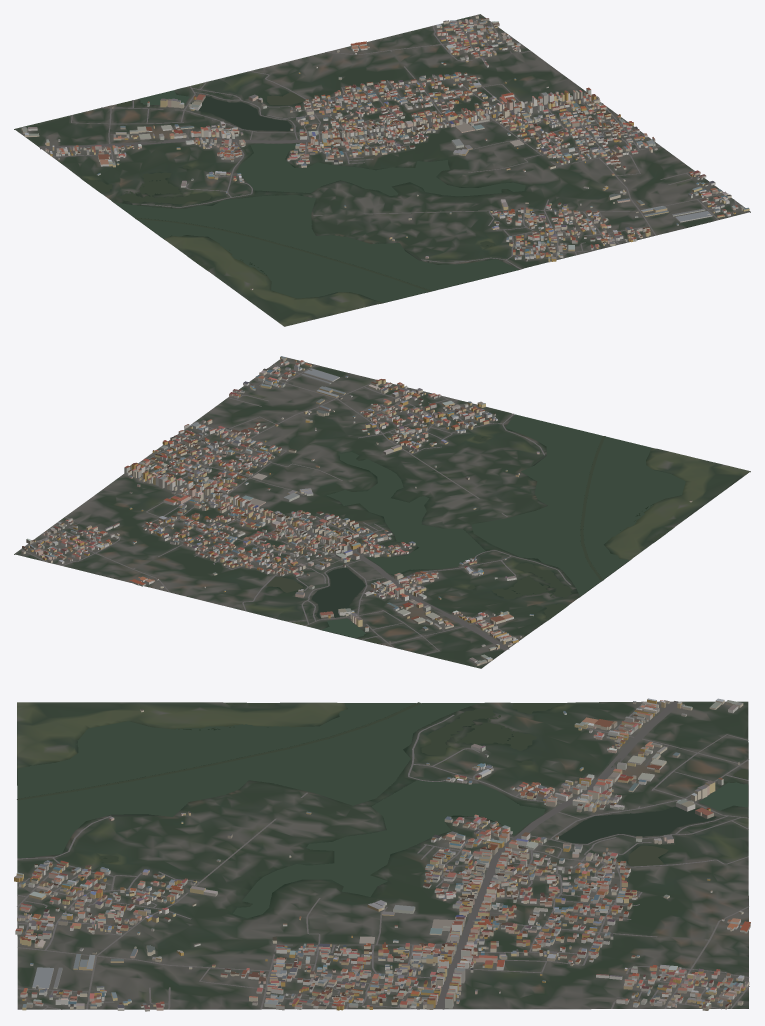
3 renders of one model, top to bottom at view 1: azimuth 30°, elevation 25°; view 2: azimuth 150°, elevation 25°; view 3: azimuth 270°, elevation 25°, orthographic. The views are drawn at different scales.
Parts seen in each view (by area): view 1: ground, water, buildings, roads; view 2: ground, water, buildings, roads; view 3: ground, water, buildings, roads.
Boxes of the visible parts, bbox=[...] form: ground: bbox=[14, 14, 750, 326]; water: bbox=[82, 90, 525, 302]; buildings: bbox=[21, 15, 749, 290]; roads: bbox=[39, 19, 740, 269]; ground: bbox=[14, 357, 750, 668]; water: bbox=[267, 414, 685, 643]; buildings: bbox=[21, 356, 692, 665]; roads: bbox=[20, 363, 571, 654]; ground: bbox=[17, 701, 748, 1009]; water: bbox=[17, 702, 747, 918]; buildings: bbox=[14, 698, 750, 1011]; roads: bbox=[17, 701, 749, 1009].
Bounding box in the file's own units: 1411 × 32.55 × 1413.
